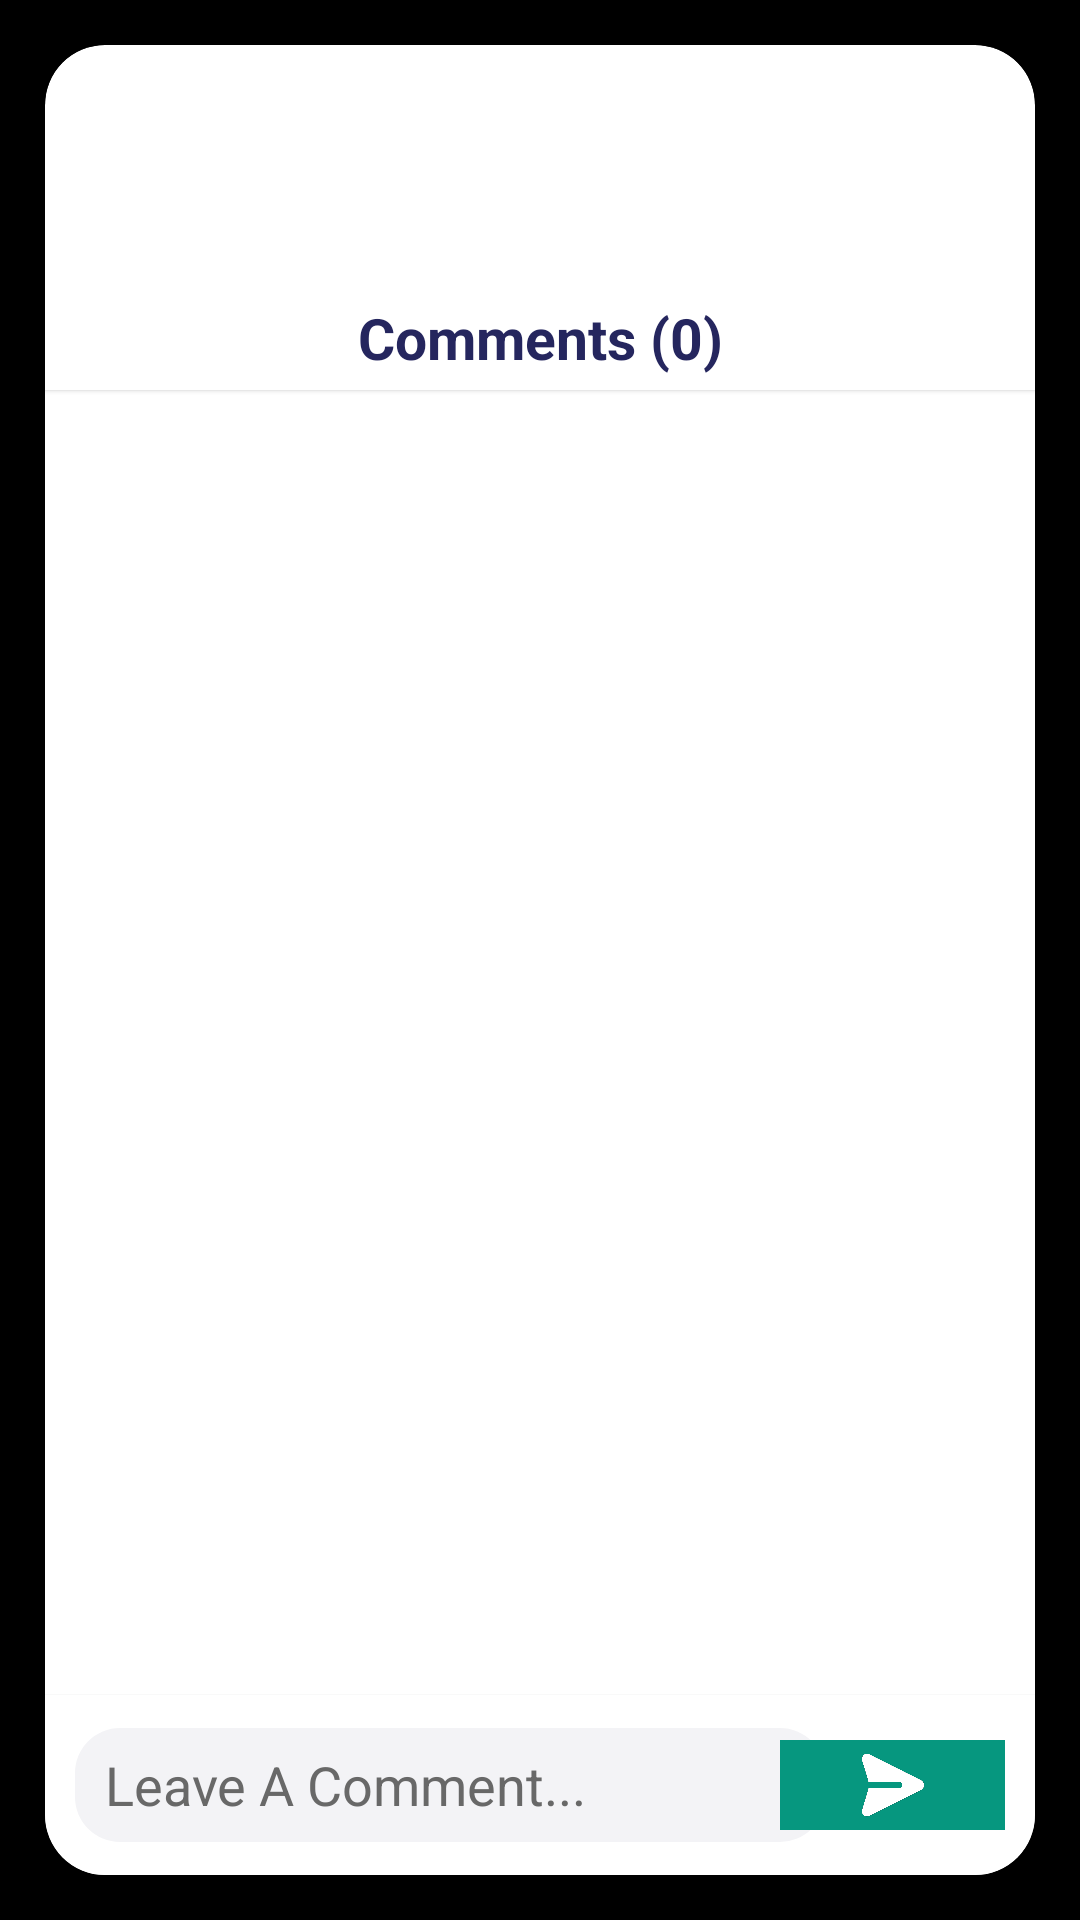

Icons on this 1080 x 1920 Android screen, each with its box as {"x1": x1, "y1": y1, "x2": x2, "y2": y2}:
send: {"x1": 780, "y1": 1740, "x2": 1005, "y2": 1830}
